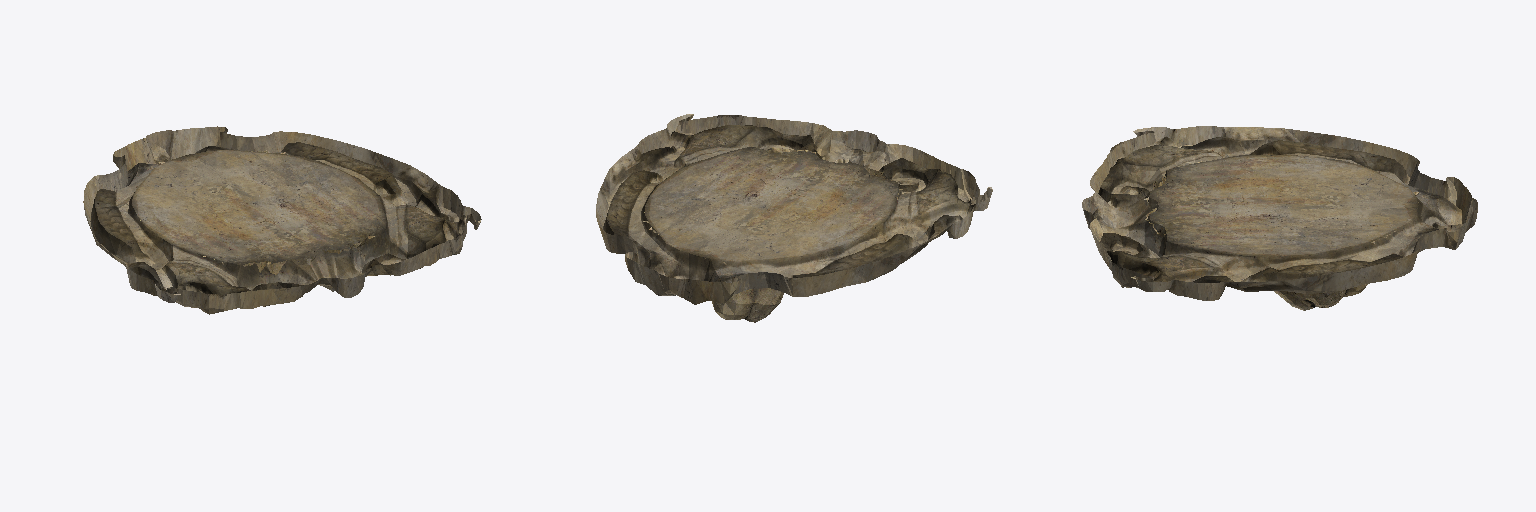
3 renders of one model, left to right at view 1: azimuth 30°, elevation 25°; view 2: azimuth 150°, elevation 25°; view 3: azimuth 270°, elevation 25°, orthographic.
Visible parts, largest first — view 1: sponza_378.001; view 2: sponza_378.001, sponza_378; view 3: sponza_378.001, sponza_378.
Part boxes in pixels (left/top/right/bottom): sponza_378.001: left=83, top=126, right=481, bottom=314; sponza_378.001: left=596, top=114, right=992, bottom=304; sponza_378: left=643, top=147, right=902, bottom=322; sponza_378.001: left=1082, top=126, right=1477, bottom=300; sponza_378: left=1144, top=161, right=1418, bottom=310.
Size of the model in its own units: 249 by 75.82 by 266.
2 materials, 2 textured.